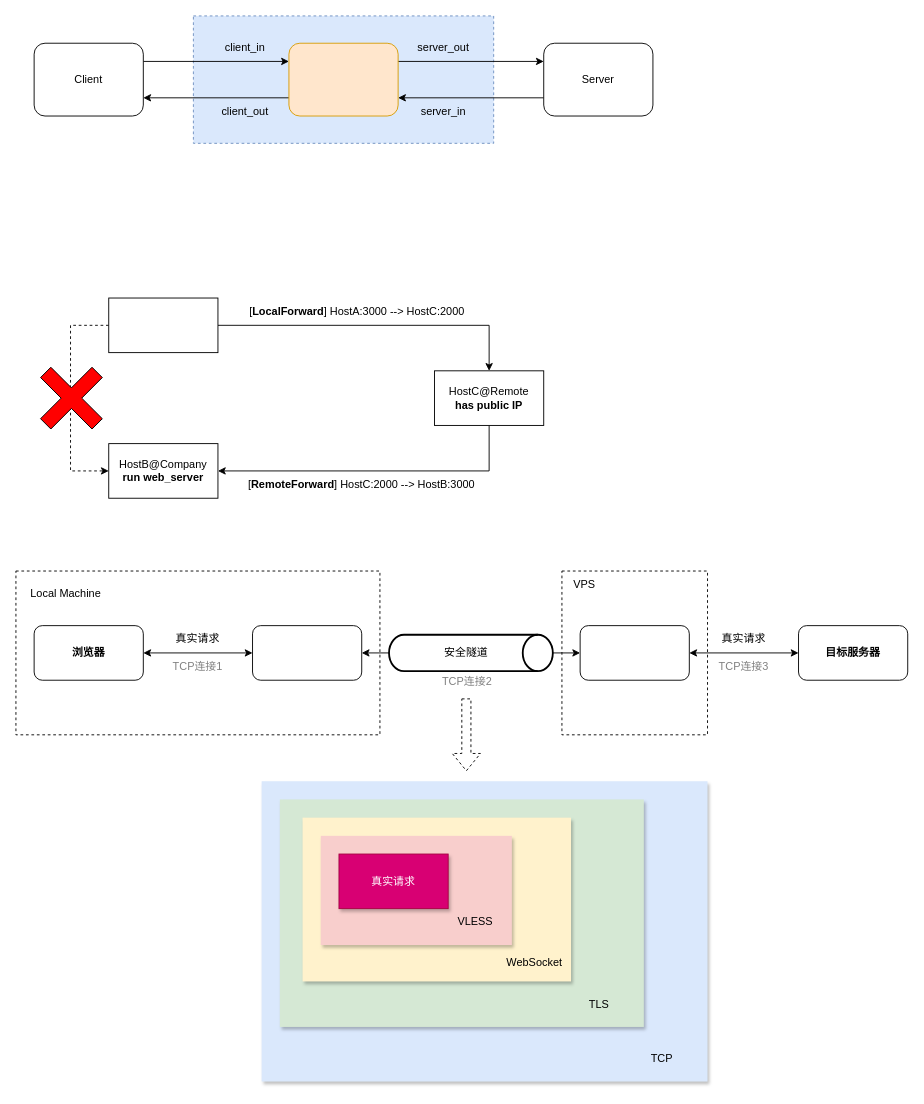
Some shapes in this 924 by 1104 pixel diagram are drawn without their labels. The shapes that lost their labels are listed below. From the top down, each one's centre as x and y in pixels, then its label:
At (343,79): "Proxy".
At (163,325): "HostA@Home".
At (307,652): "V2Ray Client".
At (634,652): "V2Ray Server".
